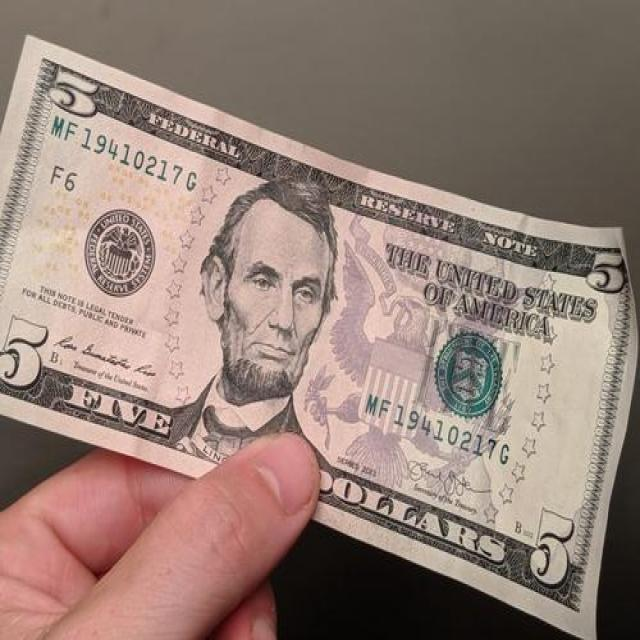5-Front: (0, 30, 640, 640)
